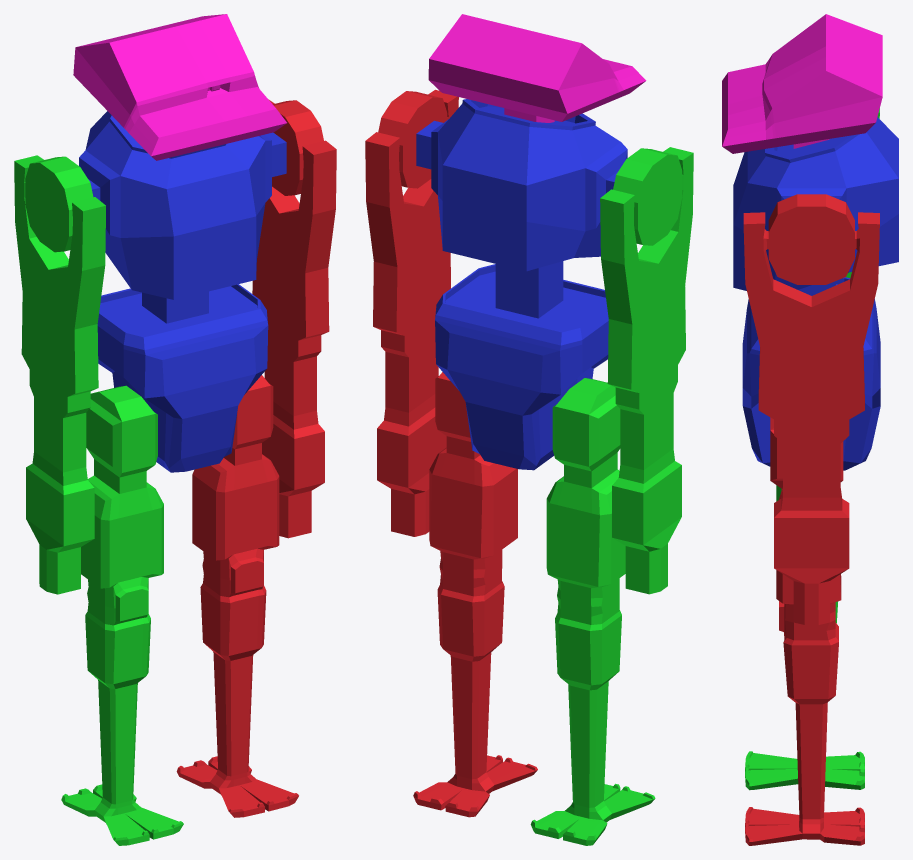
The model's file is playerPrototypeModel.glb.
3 views of the same model, side by side, from view 1: azimuth 30°, elevation 25°; view 2: azimuth 150°, elevation 25°; view 3: azimuth 270°, elevation 25° (orthographic). The views are drawn at different scales.
Parts seen in each view (by area): view 1: leg.001, arm_R, chest, leg, arm_L, hips, head, elbow_R, elbow_L, spine; view 2: leg.001, arm_R, chest, leg, arm_L, hips, head, elbow_R, elbow_L, spine; view 3: arm_L, head, leg, chest, elbow_L, hips, leg.001.
Boxes of the visible parts, x1,y1,x2,y2 form: leg.001: (61, 385, 183, 845); arm_R: (14, 155, 105, 594); chest: (79, 111, 286, 299); leg: (176, 375, 298, 817); arm_L: (252, 99, 336, 538); hips: (97, 284, 268, 472); head: (73, 14, 286, 160); elbow_R: (25, 156, 93, 252); elbow_L: (272, 100, 323, 195); spine: (142, 291, 208, 323); leg.001: (530, 378, 655, 845); arm_R: (600, 147, 693, 594); chest: (416, 99, 627, 271); leg: (413, 372, 537, 817); arm_L: (365, 89, 458, 536); hips: (435, 264, 608, 470); head: (428, 14, 646, 121); elbow_R: (613, 148, 682, 245); elbow_L: (378, 91, 447, 188); spine: (495, 261, 563, 318); arm_L: (743, 212, 879, 624); head: (722, 14, 882, 153); leg: (745, 417, 864, 845); chest: (733, 117, 898, 290); elbow_L: (768, 194, 854, 284); hips: (742, 277, 880, 470); leg.001: (745, 485, 864, 790).
Bounding box in the file's own units: 2.3 × 6.36 × 1.34.
